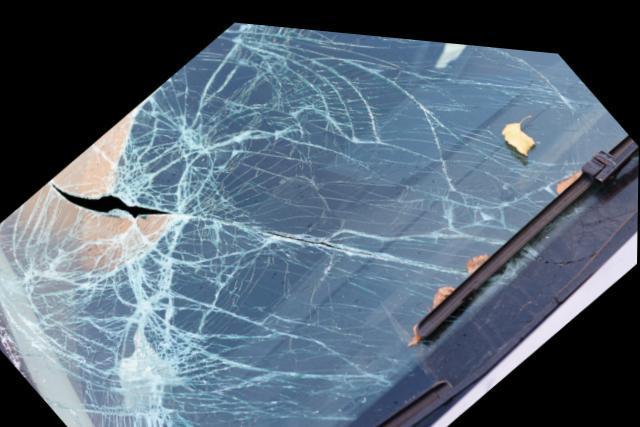glass shatter: (0, 18, 639, 427)
